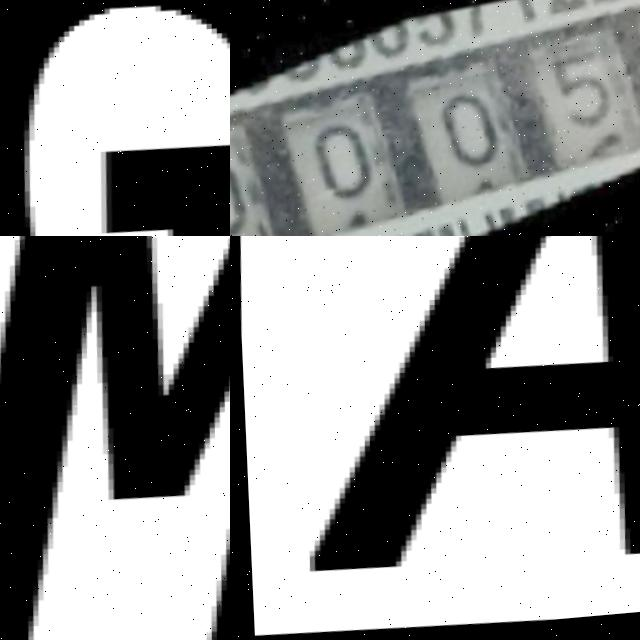0: (425, 84, 511, 191), (297, 111, 382, 214), (230, 148, 250, 236)
5: (534, 44, 616, 148)
A: (275, 236, 640, 596)
G: (0, 0, 230, 236)
M: (0, 236, 230, 640)
